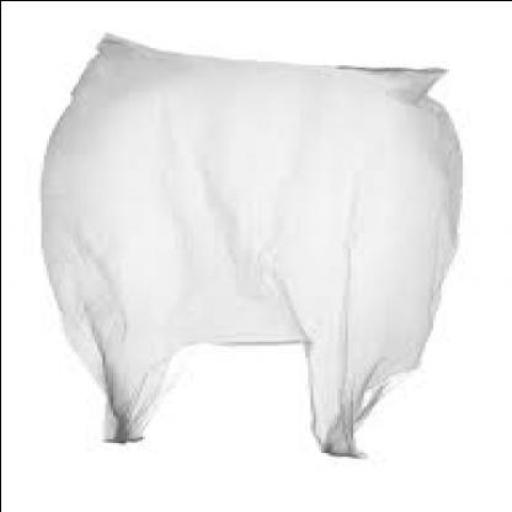plastic: (35, 33, 461, 459)
